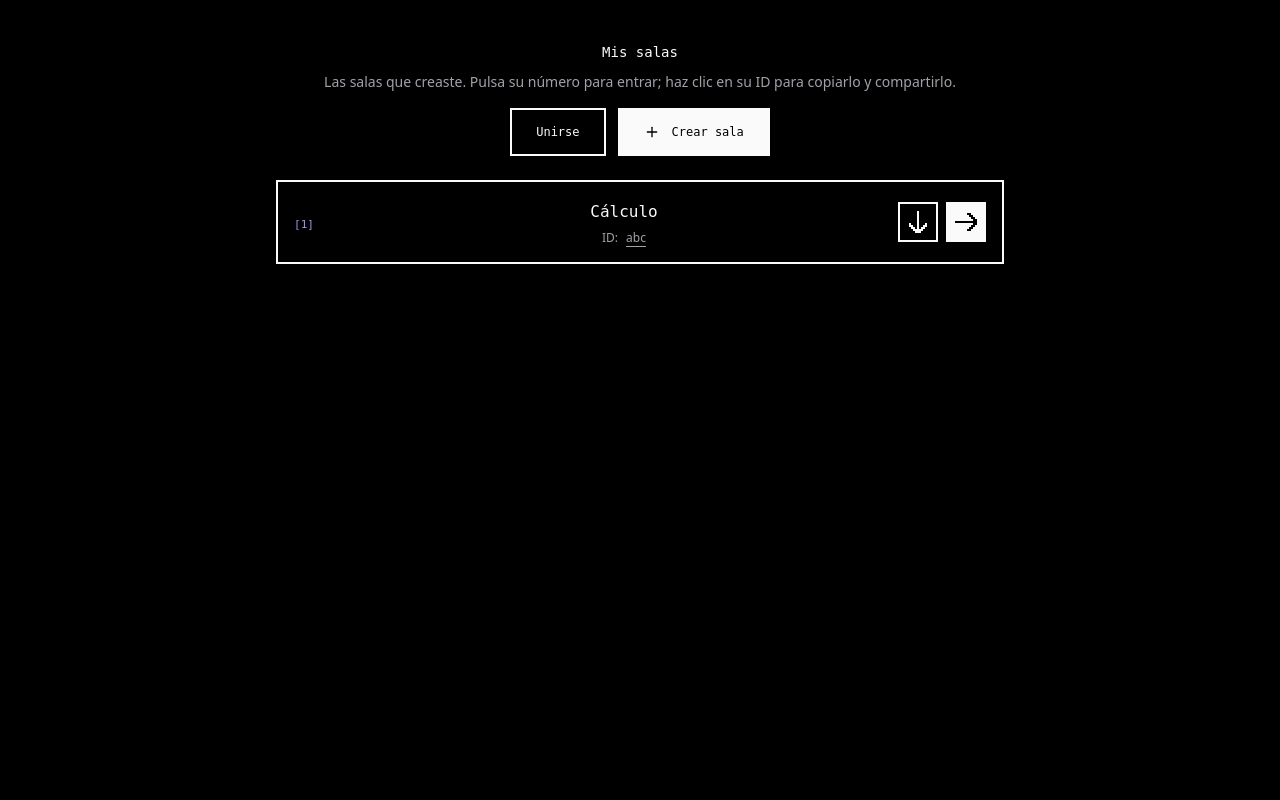
it: Editar y eliminar desde «Mis salas» (US-07) › si no puede guardar muestra el motivo, conserva lo escrito y deja reintentar
Click the button named "detalles de la sala".
click(918, 222)  # box [898, 202, 938, 242]
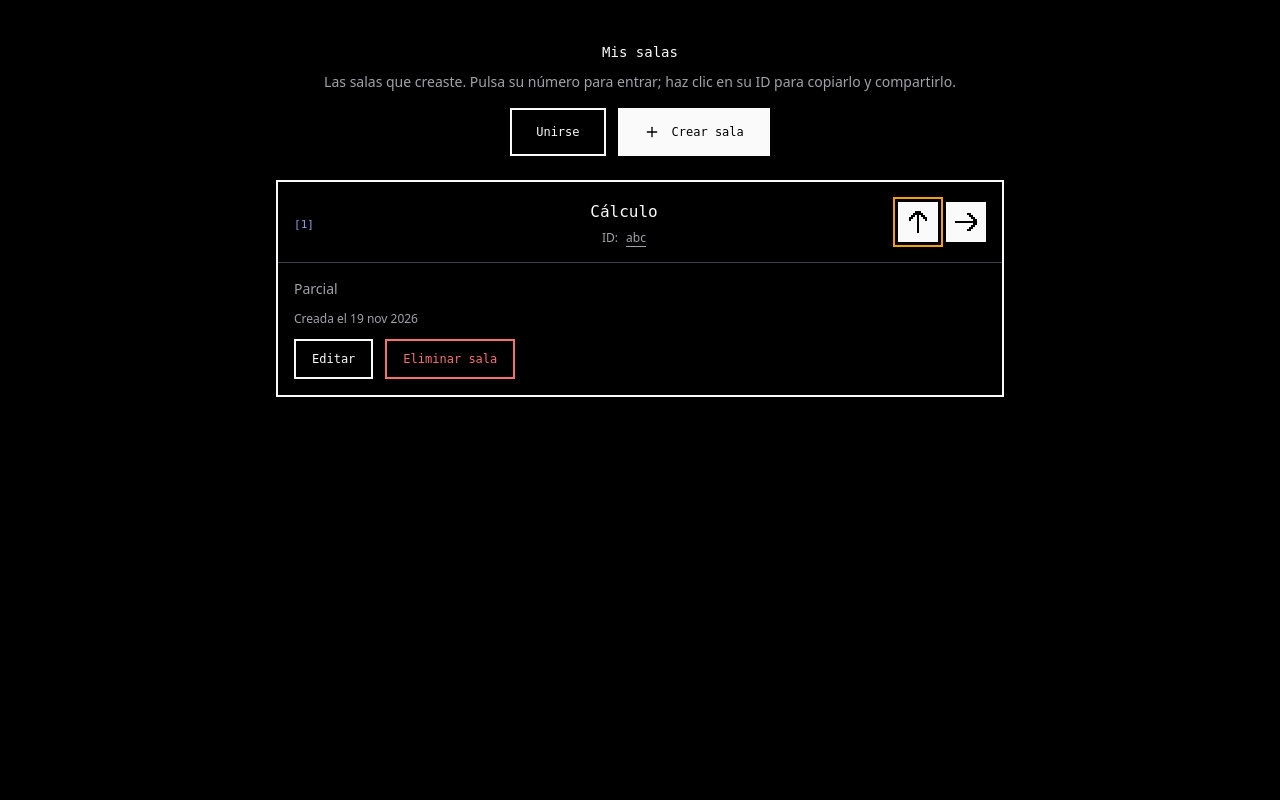
Click the button with aria-label "Editar la sala Cálculo".
click(334, 359)  # box [294, 339, 373, 379]
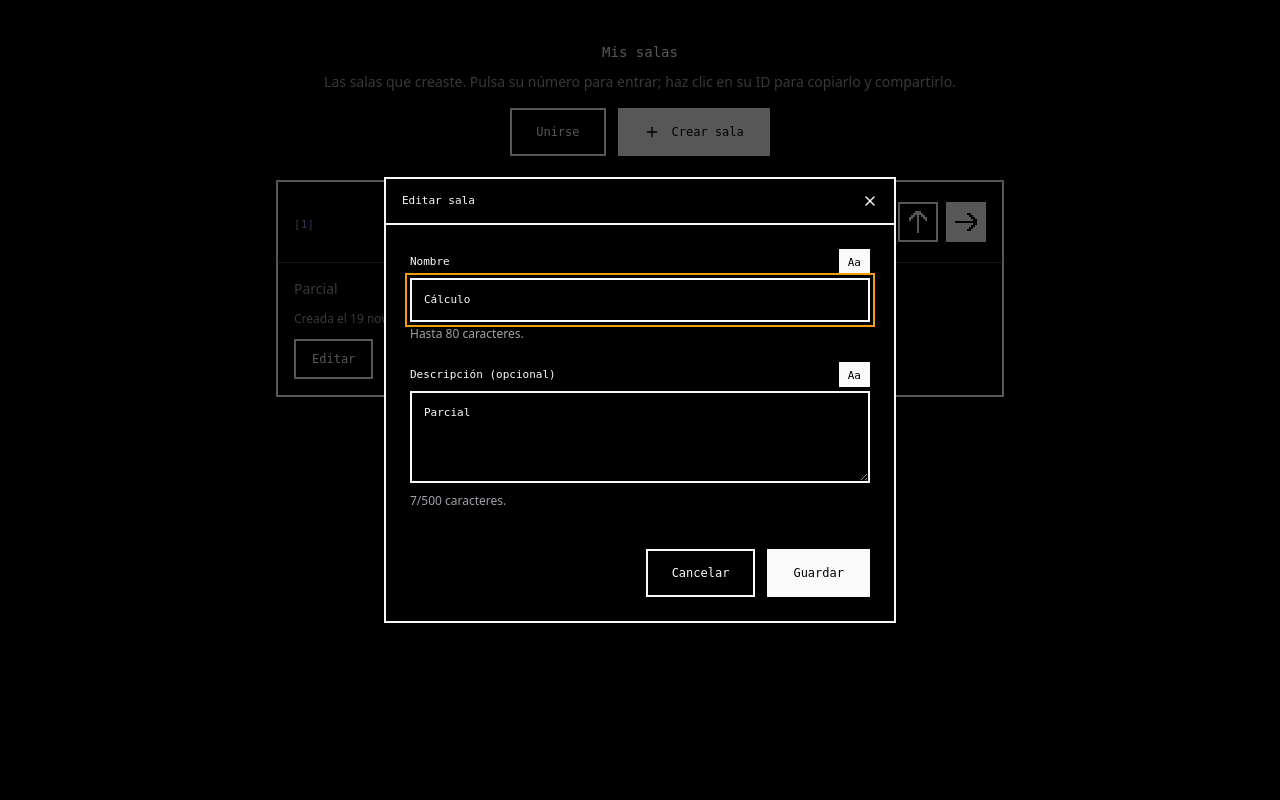
Click the button "Guardar".
click(819, 573)  # box [767, 549, 870, 597]
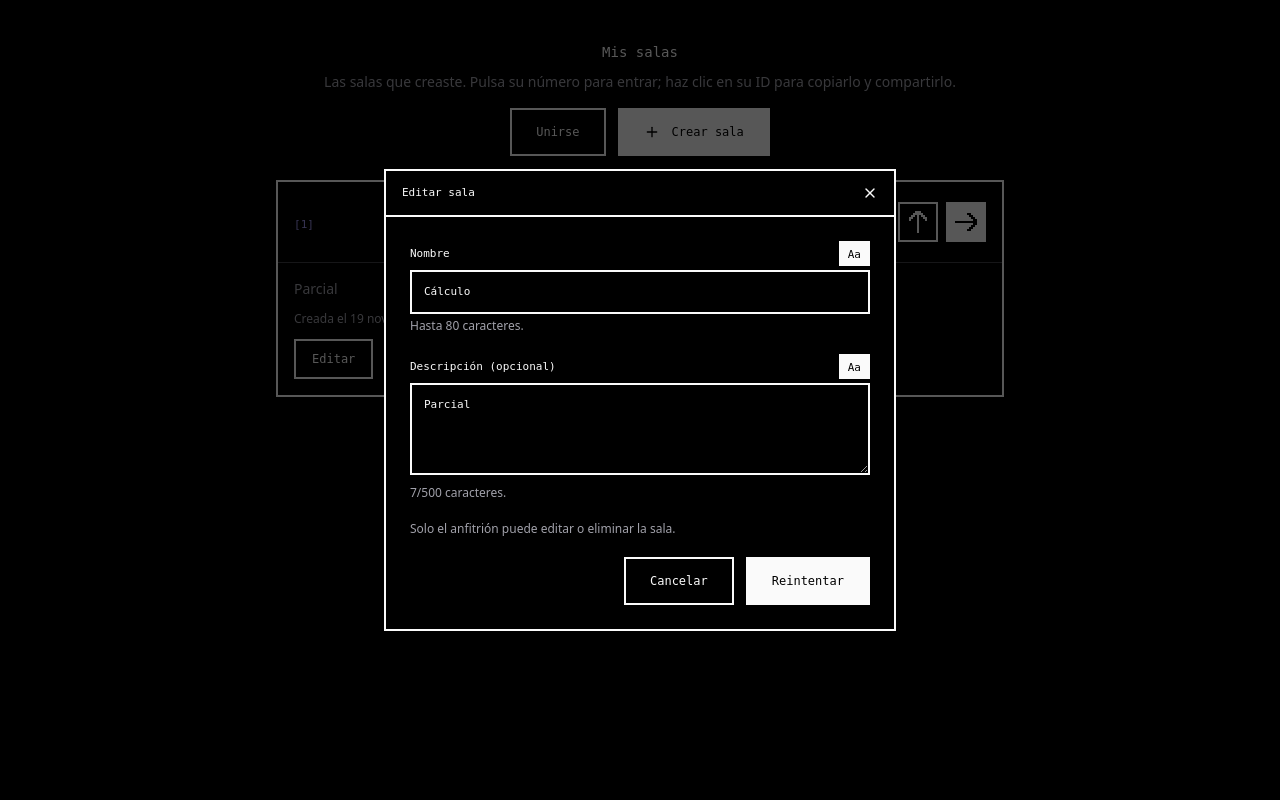
Check: the button "Reintentar" is enabled, box [746, 557, 870, 605]
Check: the field labelled "Nombre" holds "Cálculo", box [410, 270, 870, 314]
Check: the text "Solo el anfitrión puede editar o eliminar la sala." is shown, box [410, 520, 675, 537]
